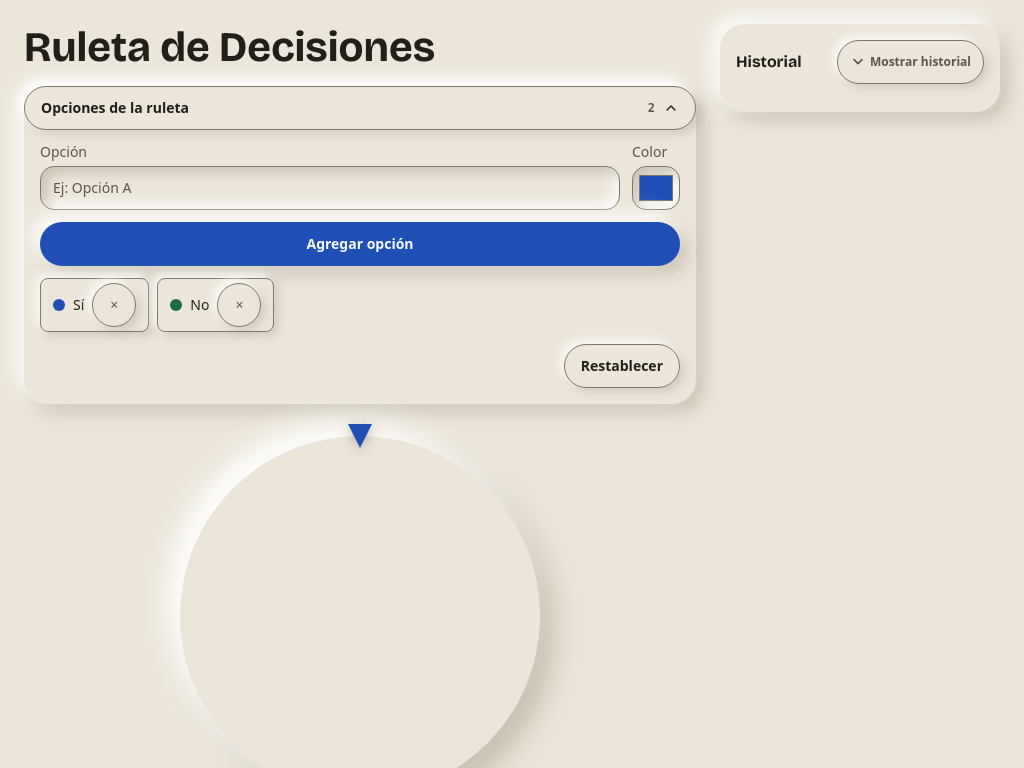
RoulettePage — opciones › elimina una opción con el botón ×
Click the button "×" next to "No". click: (239, 305)
box: [217,283,261,327]
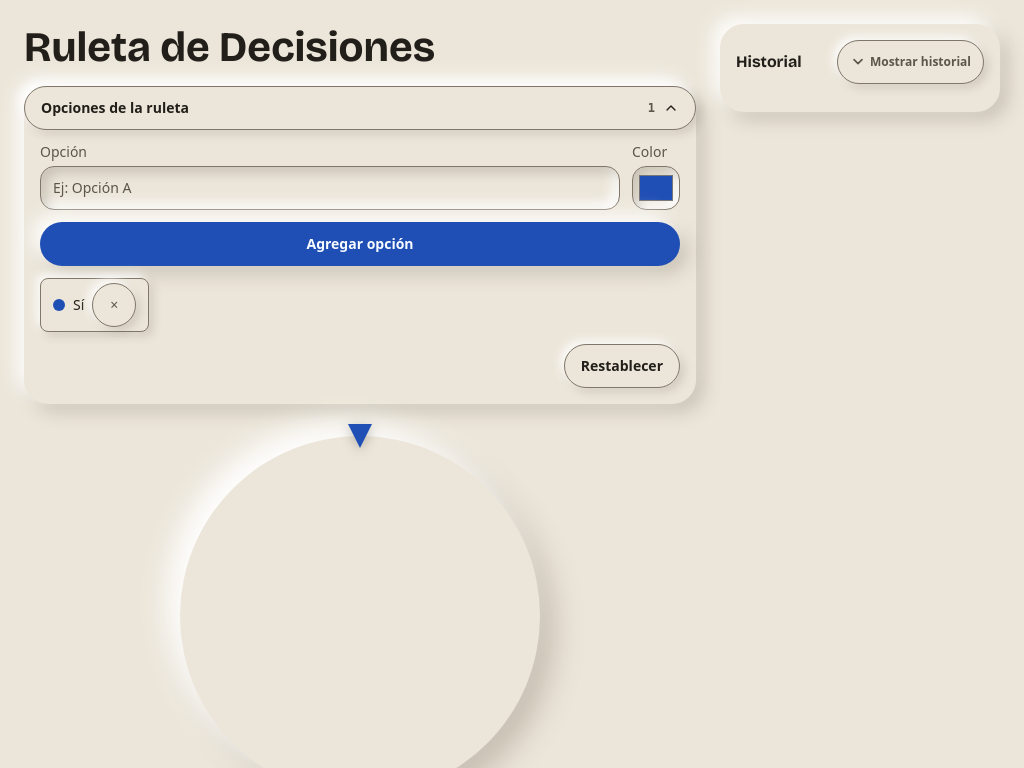
Expected: the text "Sí" is shown, [73,295,84,315]
Now the text "No" is gone
